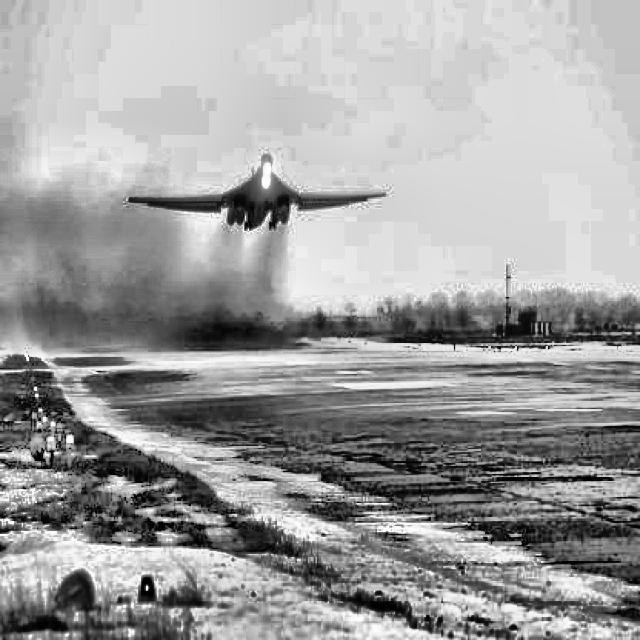Tu160: (128, 154, 387, 231)
